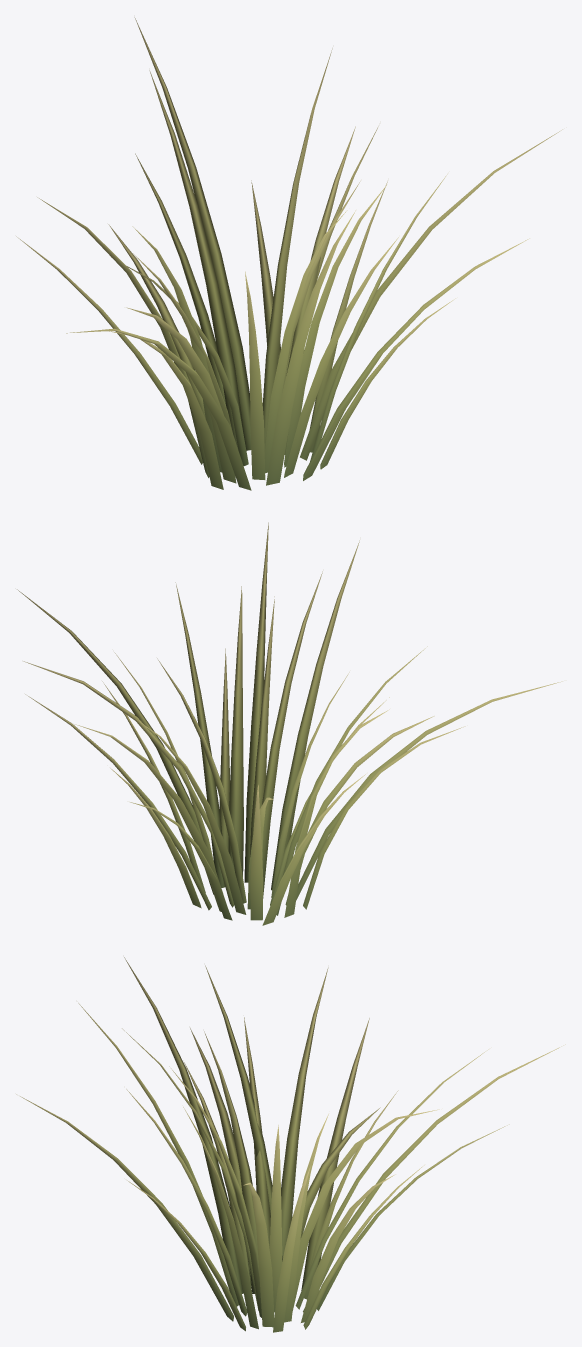
Rendered from DuneGrass.fbx.
The picture shows the model from 3 angles, top to bottom: view 1: azimuth 30°, elevation 25°; view 2: azimuth 150°, elevation 25°; view 3: azimuth 270°, elevation 25°; orthographic projection. The views are drawn at different scales.
Parts seen in each view (by area): view 1: DuneGrass; view 2: DuneGrass; view 3: DuneGrass.
Part boxes in pixels (box(x1,y1,x2,y2)): DuneGrass: box(16, 17, 562, 490); DuneGrass: box(17, 522, 562, 925); DuneGrass: box(16, 957, 565, 1332).
Size of the model in its own units: 1.14 by 0.653 by 1.08.
